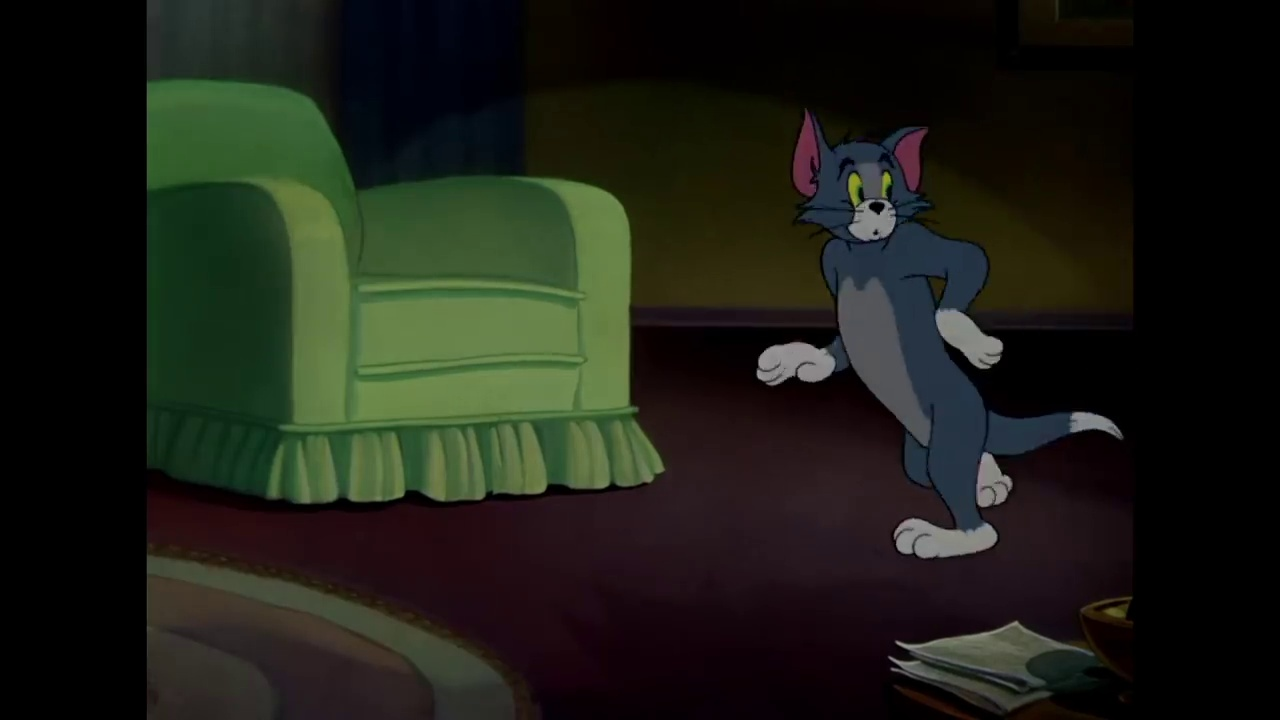tom: (783, 106, 931, 266)
